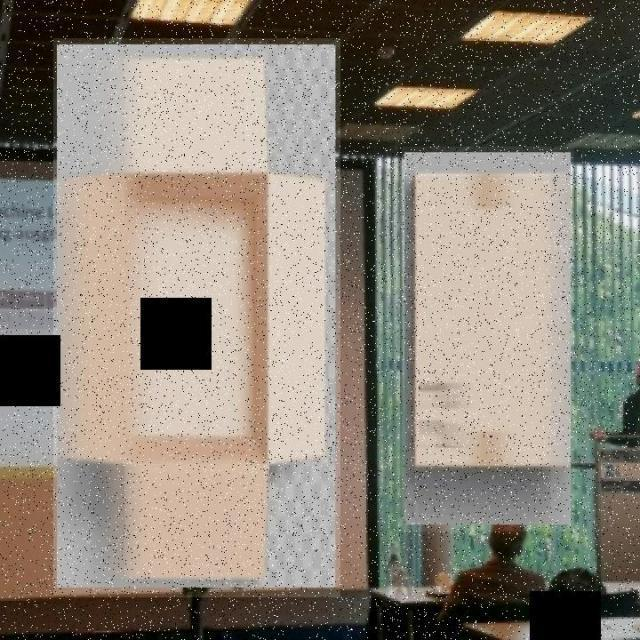box: (54, 39, 340, 598), (402, 146, 575, 532)
